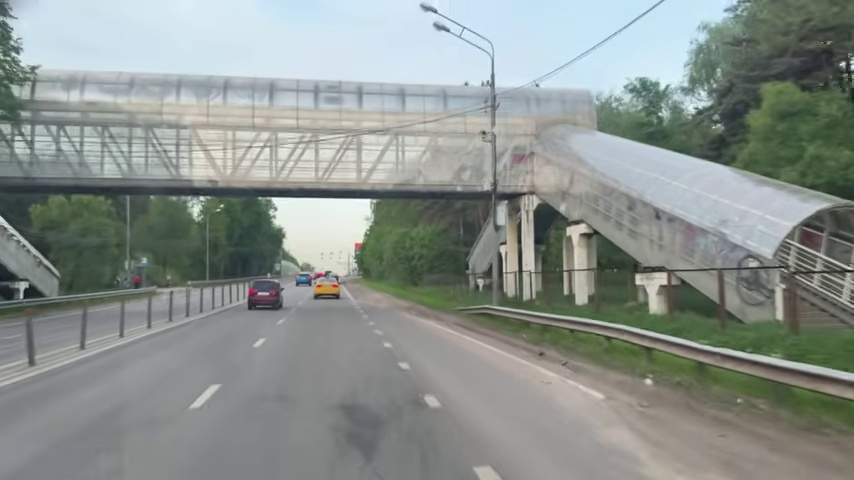acesa: (422, 393, 441, 411)
apagada: (192, 383, 221, 412), (425, 19, 449, 37), (418, 3, 439, 18)
